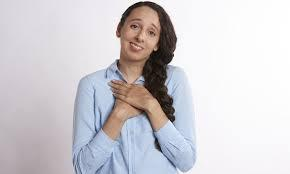person: (112, 0, 188, 69)
